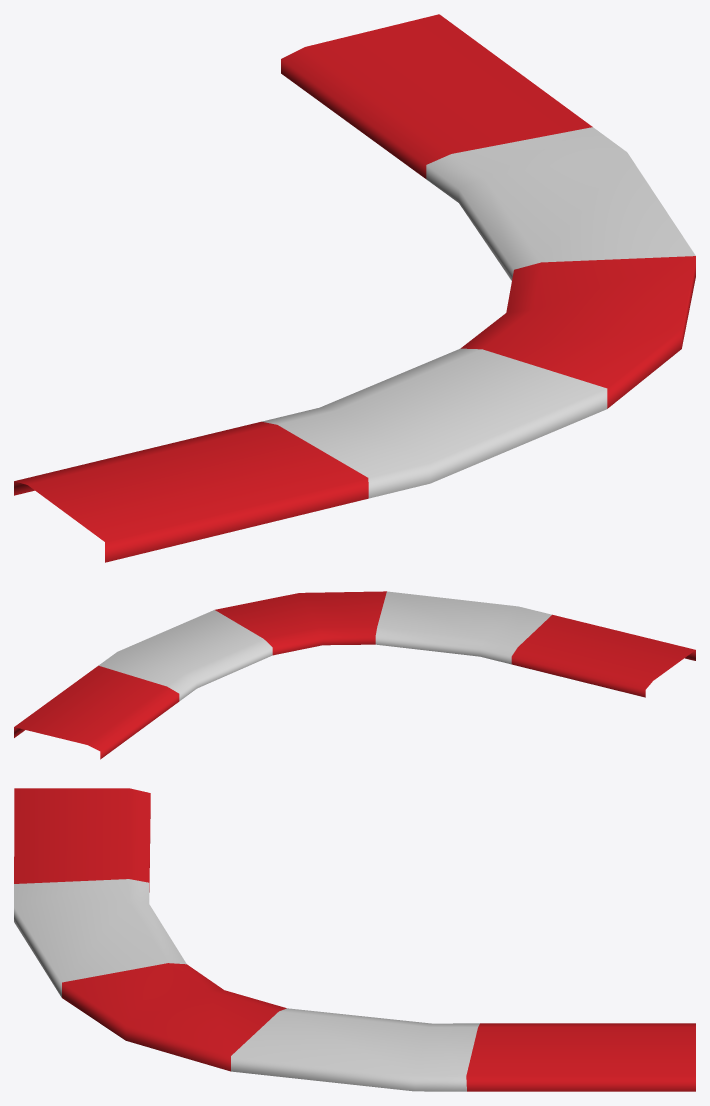
The model's file is road02.fbx.
3 views of the same model, one above another, from view 1: azimuth 30°, elevation 25°; view 2: azimuth 150°, elevation 25°; view 3: azimuth 270°, elevation 25° (orthographic). The views are drawn at different scales.
Visible parts, largest first — view 1: Plane.003; view 2: Plane.003; view 3: Plane.003.
Part boxes in pixels (left/top/right/bottom): Plane.003: left=14, top=14, right=695, bottom=562; Plane.003: left=14, top=591, right=695, bottom=759; Plane.003: left=14, top=788, right=695, bottom=1091.
Bounding box in the file's own units: 5 × 0.125 × 5.
